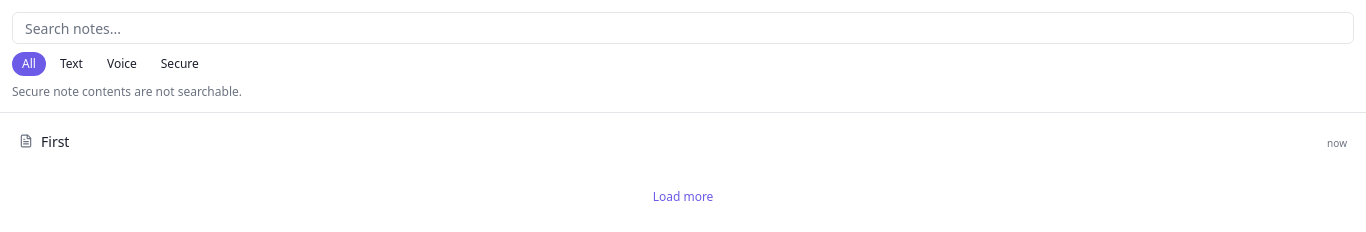
Test: NoteList — Load more › appends next page results when Load more is clicked
This screenshot has width=1366, height=232.
Expected: the text "First" is shown, [41,132,69,152]
Step 1. Click the button "Load more" → (683, 197), box [641,179,725,215]
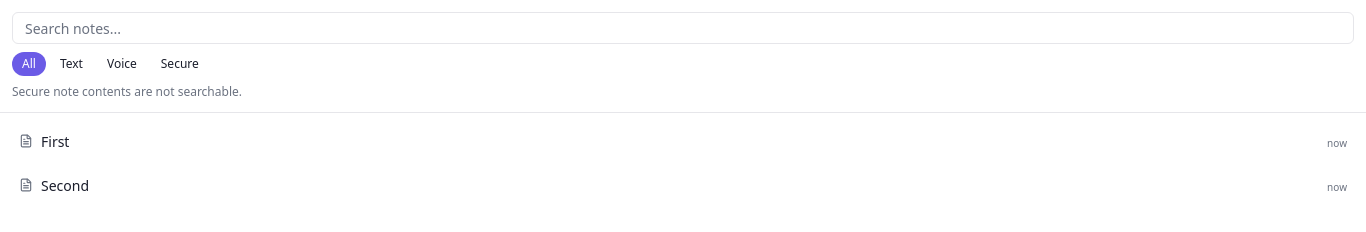
Expected: the text "First" is shown, [41,132,69,152]
Now the text "Second" is shown, box [41,176,89,196]
Now the button "Load more" is gone
